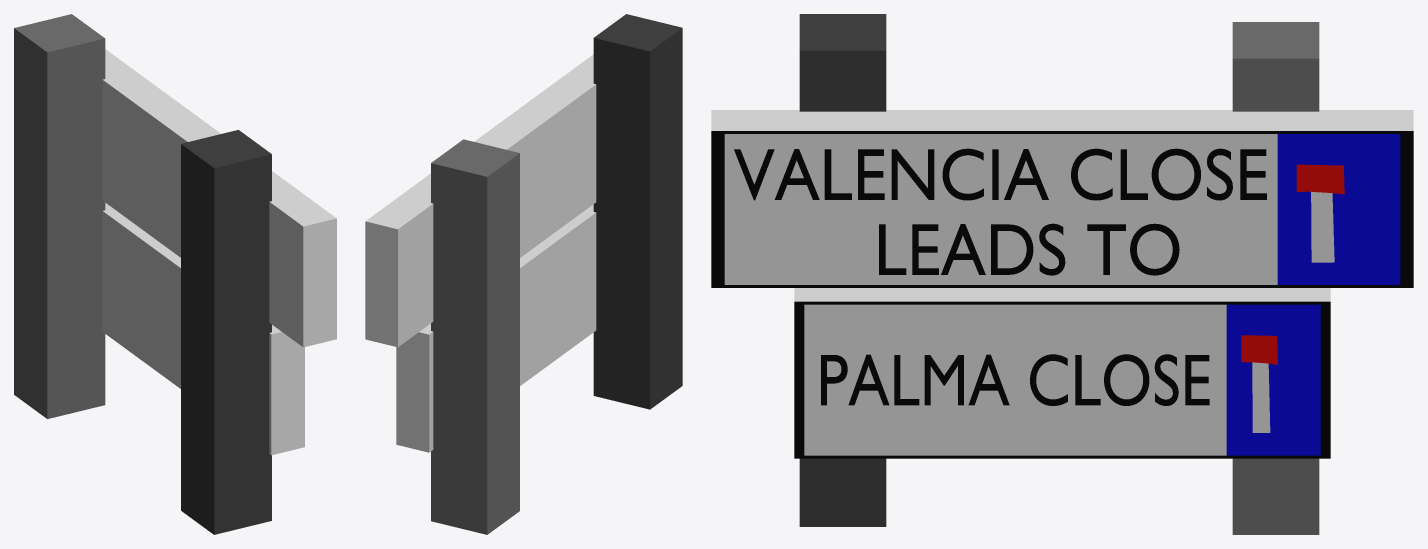
Rendered from uk_street_sign_rural_dead_end_4.fbx.
The picture shows the model from 3 angles, left to right: view 1: azimuth 30°, elevation 25°; view 2: azimuth 150°, elevation 25°; view 3: azimuth 270°, elevation 25°; orthographic projection. The views are drawn at different scales.
Parts seen in each view (by area): view 1: Cube.001, Cube, Cube.002, Cube.003; view 2: Cube, Cube.001, Cube.002, Cube.003; view 3: Cube.002, Cube.003, Cube, Cube.001, Text, Text.002, Text.001.
Boxes of the visible parts, left/top/right/bottom form: Cube.001: left=14, top=14, right=105, bottom=418; Cube: left=181, top=130, right=271, bottom=534; Cube.002: left=102, top=49, right=336, bottom=347; Cube.003: left=102, top=203, right=304, bottom=455; Cube: left=593, top=14, right=682, bottom=409; Cube.001: left=431, top=139, right=519, bottom=534; Cube.002: left=365, top=54, right=596, bottom=347; Cube.003: left=396, top=204, right=596, bottom=452; Cube.002: left=711, top=110, right=1413, bottom=287; Cube.003: left=794, top=288, right=1330, bottom=458; Cube: left=799, top=14, right=886, bottom=526; Cube.001: left=1232, top=22, right=1319, bottom=534; Text: left=734, top=148, right=1266, bottom=200; Text.002: left=821, top=354, right=1209, bottom=405; Text.001: left=879, top=223, right=1179, bottom=275.
Bounding box in the file's own units: 3.1 × 12.34 × 16.22.
